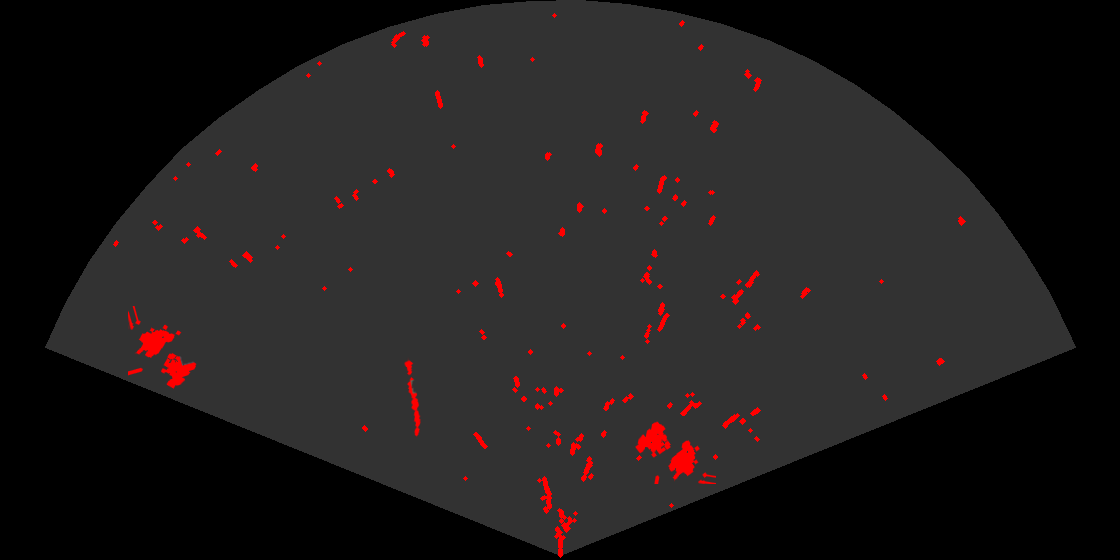cage: (128, 306, 198, 390), (634, 420, 716, 484)
chain: (403, 357, 423, 438)
